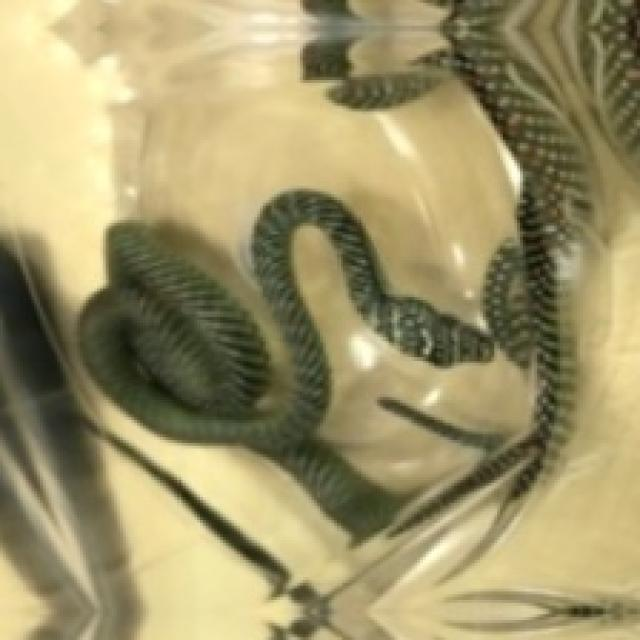paradise tree snake: (0, 0, 637, 637), (74, 186, 497, 540), (480, 169, 560, 374)
